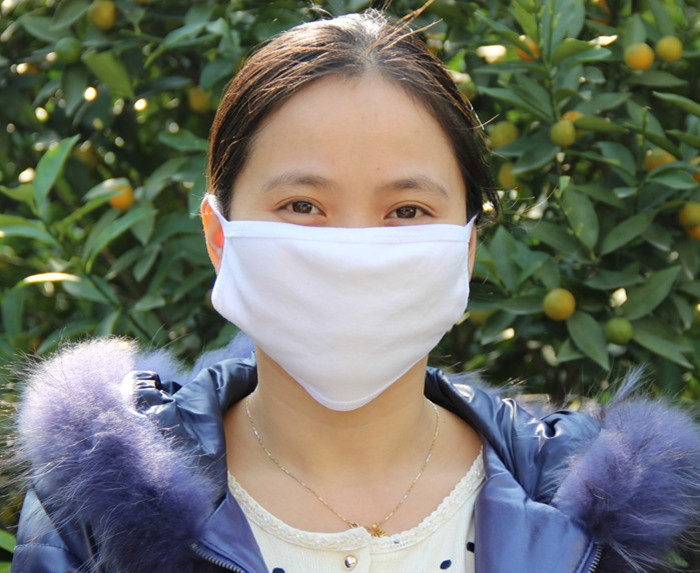face_mask: (231, 86, 471, 395)
